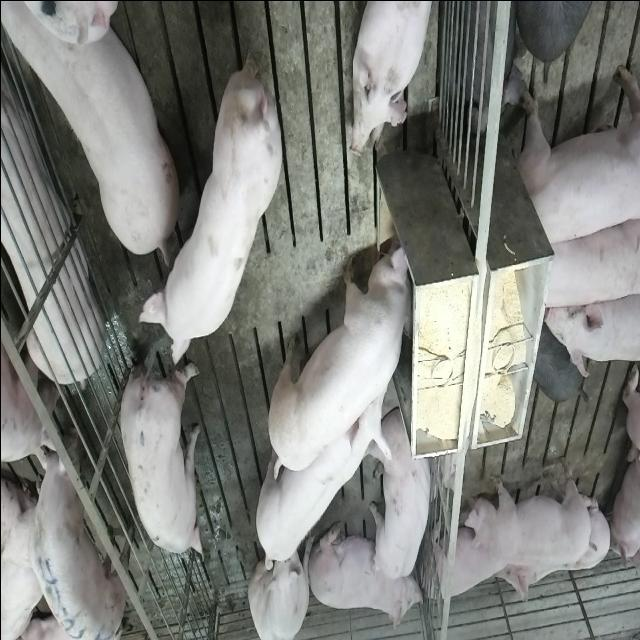Feeding: (270, 236, 420, 470)
Sitting: (371, 410, 435, 582), (246, 531, 312, 640)
Standing: (142, 44, 288, 362), (5, 6, 182, 264), (250, 371, 384, 569), (514, 57, 638, 254), (23, 425, 124, 640), (117, 342, 205, 560), (538, 210, 638, 308), (541, 283, 640, 372)
Sternal_lying: (348, 0, 434, 155), (312, 518, 423, 632), (428, 510, 510, 606)
